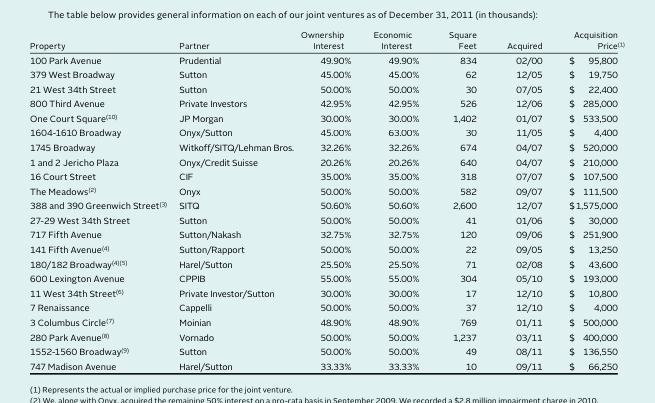table: (29, 28, 623, 371)
table column: (29, 28, 172, 371), (172, 28, 296, 371), (361, 28, 433, 371), (554, 28, 623, 371), (296, 28, 361, 371), (491, 28, 554, 371), (433, 28, 491, 371)
table column header: (29, 28, 623, 52)
table row: (29, 28, 623, 52), (29, 66, 623, 81), (29, 81, 623, 96), (29, 110, 623, 125), (29, 139, 623, 154), (29, 168, 623, 183), (29, 183, 623, 198), (29, 212, 623, 227), (29, 241, 623, 256), (29, 270, 623, 285), (29, 285, 623, 300), (29, 314, 623, 329), (29, 343, 623, 358), (29, 52, 623, 66), (29, 96, 623, 110), (29, 125, 623, 139), (29, 154, 623, 168), (29, 198, 623, 212), (29, 227, 623, 241), (29, 256, 623, 270), (29, 300, 623, 314), (29, 329, 623, 343), (29, 358, 623, 371)
